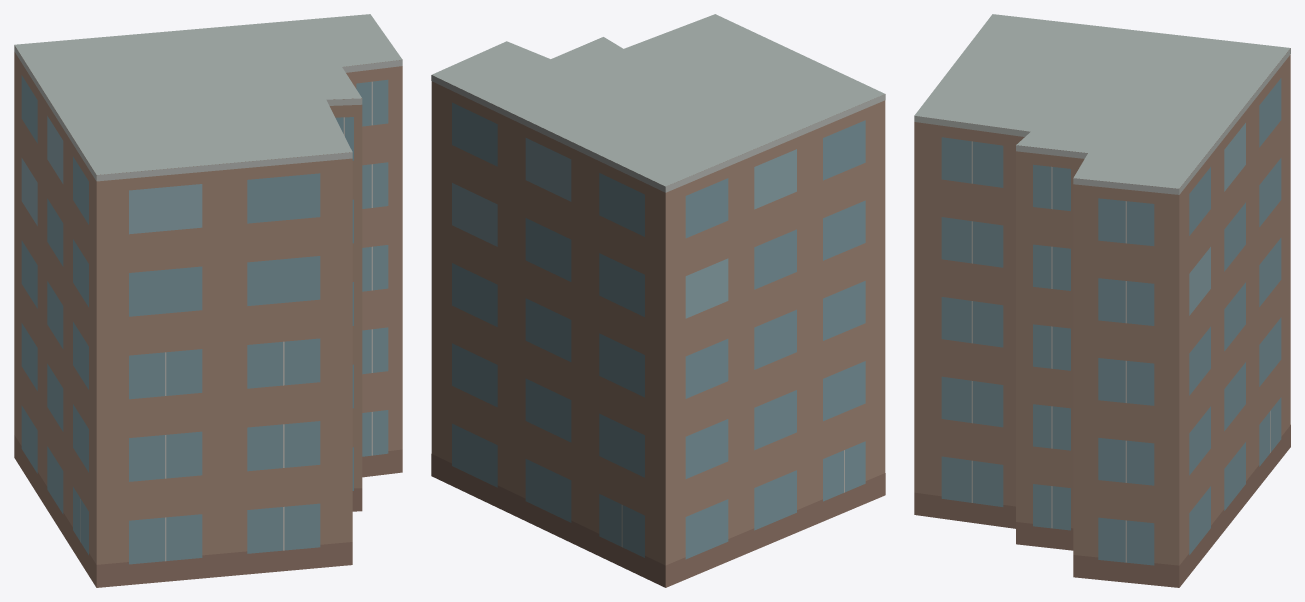
The model's file is survey-upis-32812708.glb.
The picture shows the model from 3 angles, left to right: view 1: azimuth 30°, elevation 25°; view 2: azimuth 150°, elevation 25°; view 3: azimuth 270°, elevation 25°; orthographic projection. The views are drawn at different scales.
Parts seen in each view (by area): view 1: survey-upis-32812708.tmp; view 2: survey-upis-32812708.tmp; view 3: survey-upis-32812708.tmp.
Boxes of the visible parts, x1,y1,x2,y2 form: survey-upis-32812708.tmp: (14,14,402,587); survey-upis-32812708.tmp: (431,14,885,587); survey-upis-32812708.tmp: (914,14,1290,587).
Size of the model in its own units: 14.85 by 15.8 by 13.52.
